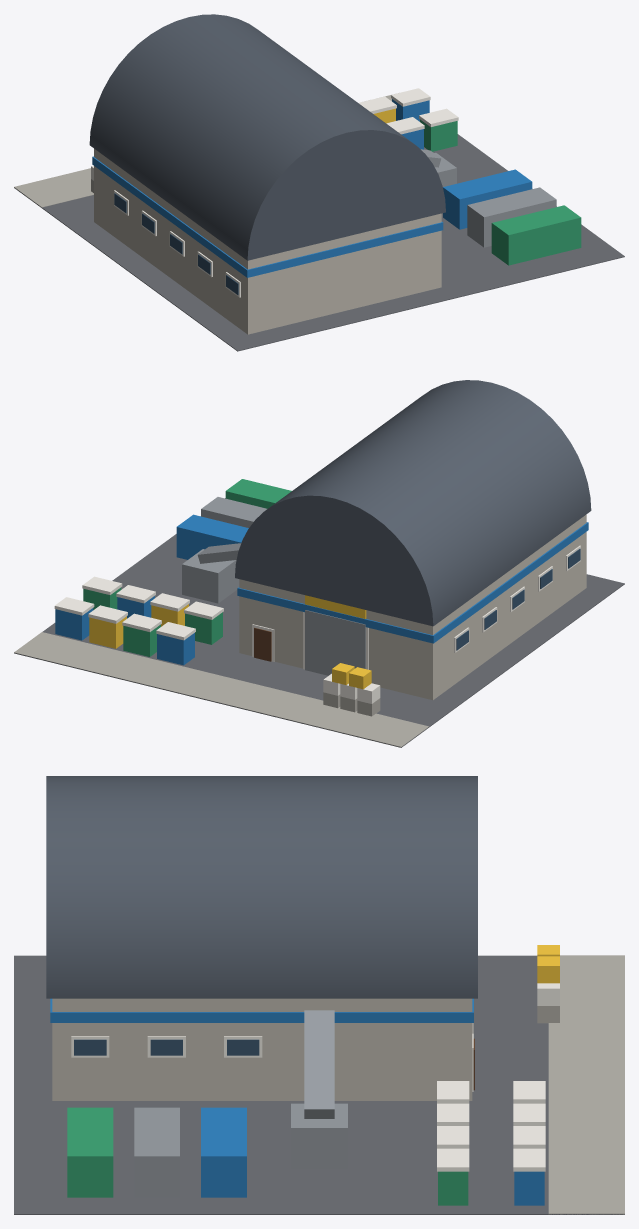
File: recycling.glb
3 renders of one model, top to bottom at view 1: azimuth 30°, elevation 25°; view 2: azimuth 150°, elevation 25°; view 3: azimuth 270°, elevation 25°, orthographic. The views are drawn at different scales.
Parts seen in each view (by area): view 1: warehouse_roof, warehouse, yard, container (×3), accent_stripe, apron, bin (×2), bin_lid (×2); view 2: warehouse_roof, warehouse, yard, apron, bin (×7), container (×3), garage_door, accent_stripe, hopper, conveyor, sign, door; view 3: warehouse_roof, yard, warehouse, apron, container (×3), bin_lid (×8), accent_stripe, conveyor, hopper, bin (×2), bale.
Boxes of the visible parts, box(x1,y1,x2,y2) form: warehouse_roof: box(89, 14, 445, 260); warehouse: box(94, 148, 441, 334); yard: box(14, 134, 624, 351); container (×3): box(443, 169, 581, 265); accent_stripe: box(92, 156, 443, 277); apron: box(14, 95, 391, 207); bin (×2): box(392, 99, 457, 151); bin_lid (×2): box(391, 88, 458, 126); warehouse_roof: box(235, 380, 591, 626); warehouse: box(239, 514, 586, 700); yard: box(14, 498, 624, 747); apron: box(14, 632, 429, 747); bin (×7): box(55, 587, 222, 665); container (×3): box(176, 479, 291, 559); garage_door: box(305, 610, 365, 675); accent_stripe: box(237, 522, 588, 643); hopper: box(182, 549, 239, 603); conveyor: box(197, 543, 241, 563); sign: box(305, 595, 366, 618); door: box(254, 627, 271, 661); warehouse_roof: box(46, 776, 477, 998); yard: box(14, 955, 624, 1214); warehouse: box(52, 998, 472, 1100); apron: box(548, 955, 624, 1214); container (×3): box(67, 1107, 246, 1197); bin_lid (×8): box(437, 1081, 545, 1171); accent_stripe: box(50, 998, 473, 1022); conveyor: box(304, 1010, 334, 1118); hopper: box(291, 1103, 347, 1169); bin (×2): box(438, 1171, 544, 1205); bale: box(537, 956, 559, 983).
Size of the model in its own units: 32 by 14.26 by 32.
